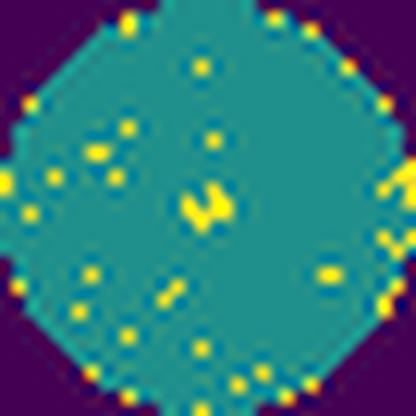Center: (181, 180, 232, 232)
